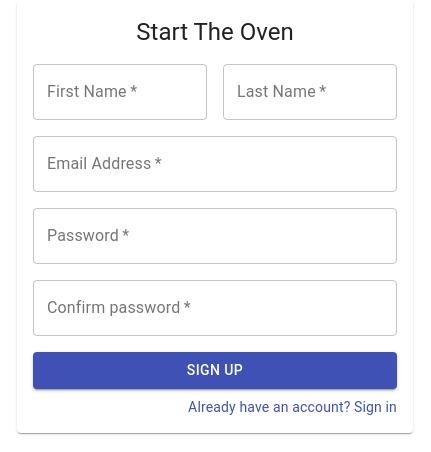
RegisterForm › Email input field stores input in hook
Type "Te" into the field with test id "email". click: (215, 164)
box: 33,136 -> 397,192
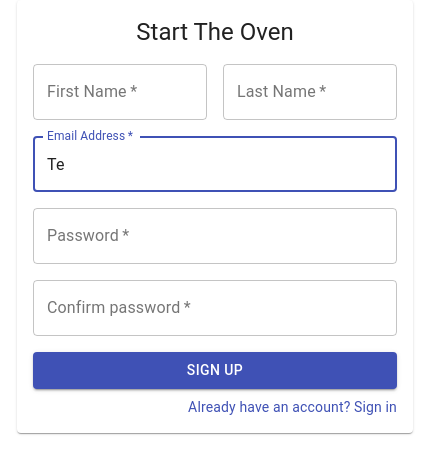
Type "st" into the field with test id "email". click: (215, 164)
box: 33,136 -> 397,192
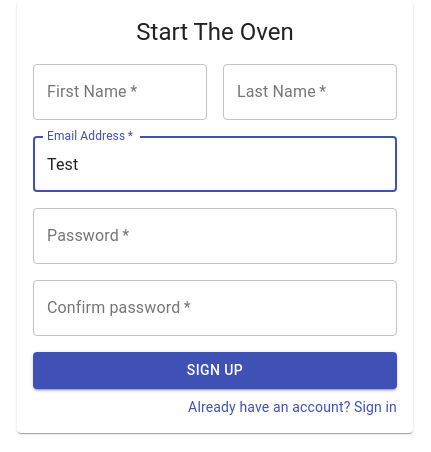
Expected: the field with test id "email" holds "Test", 33,136 -> 397,192
